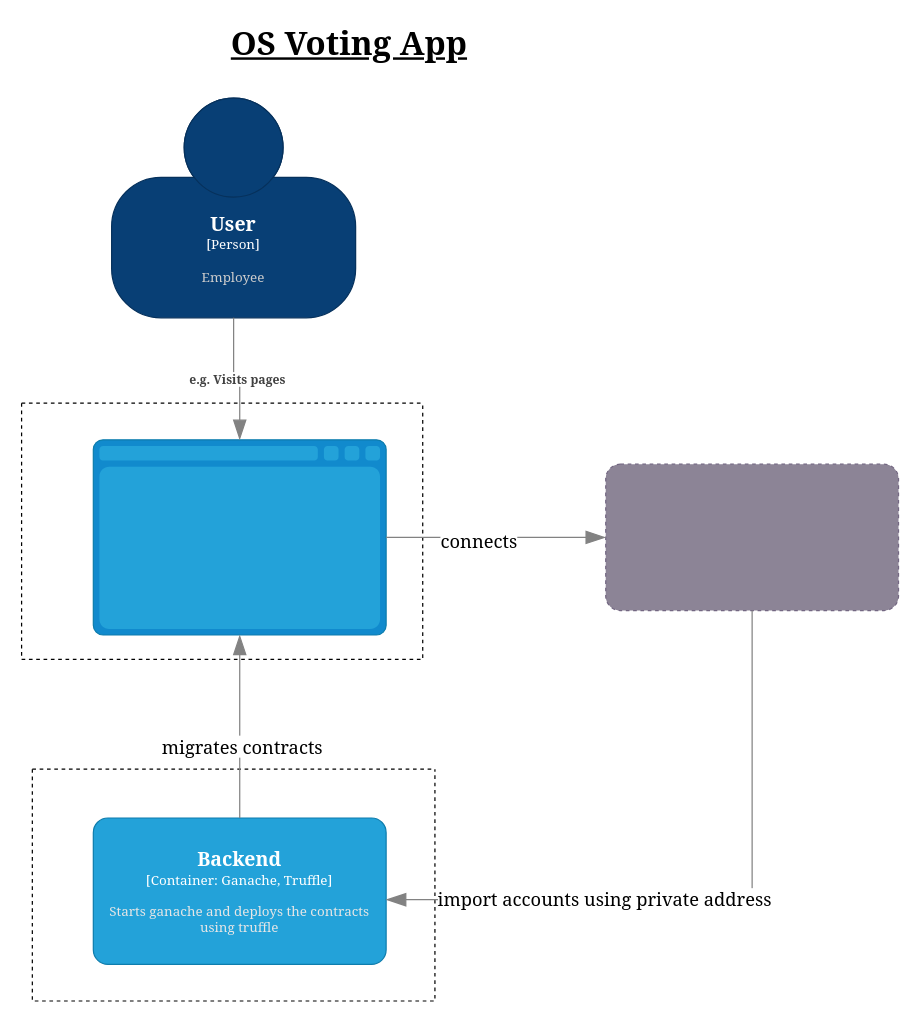
Some shapes in this 920 by 1022 pixel diagram are drawn without their labels. Each missing label, with the box of its shape:
Frontend [Container: ReactJs]: (92, 439, 386, 635)
Metamask [Software] In Browser(Chrome): (605, 463, 899, 611)
